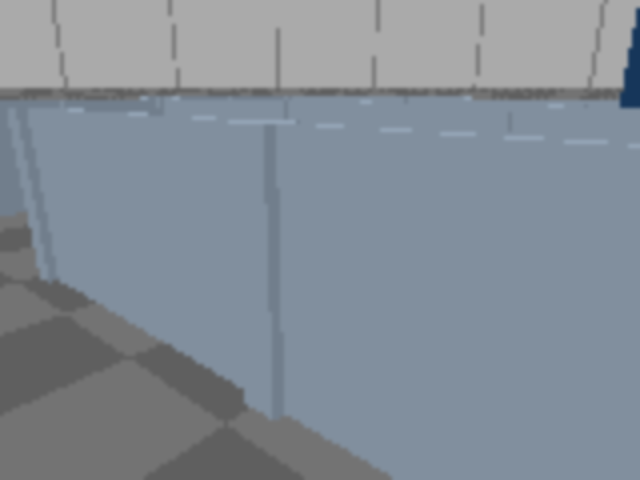person: (596, 0, 638, 265)
